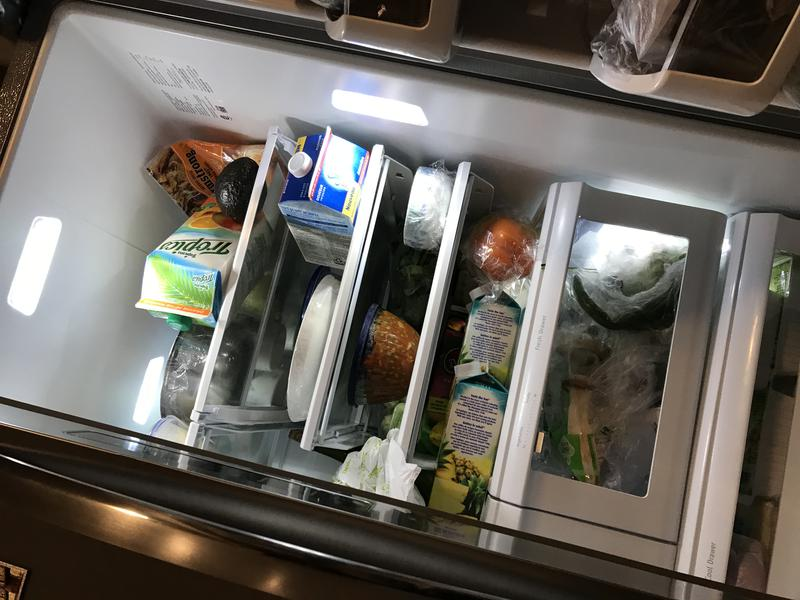avacado: (208, 156, 268, 229)
